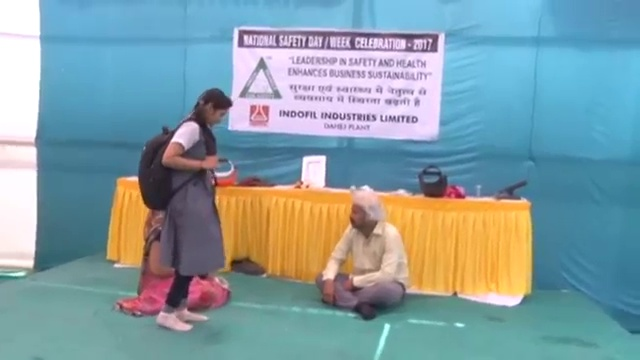helmet_off: (194, 90, 232, 129), (347, 192, 379, 233)
person: (136, 88, 233, 334), (317, 190, 414, 321)
